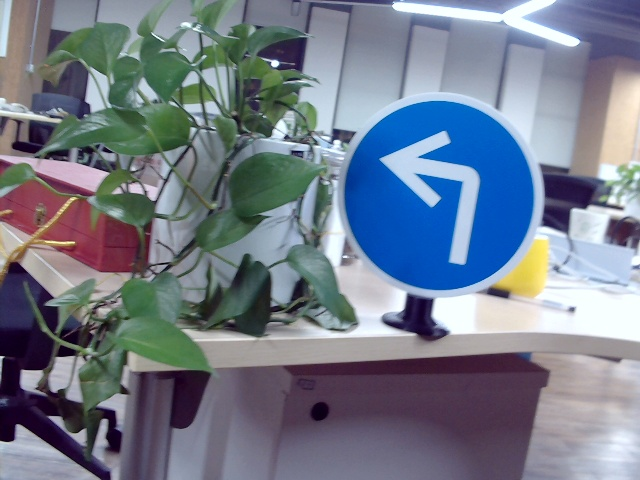turn_left: (377, 124, 494, 264)
